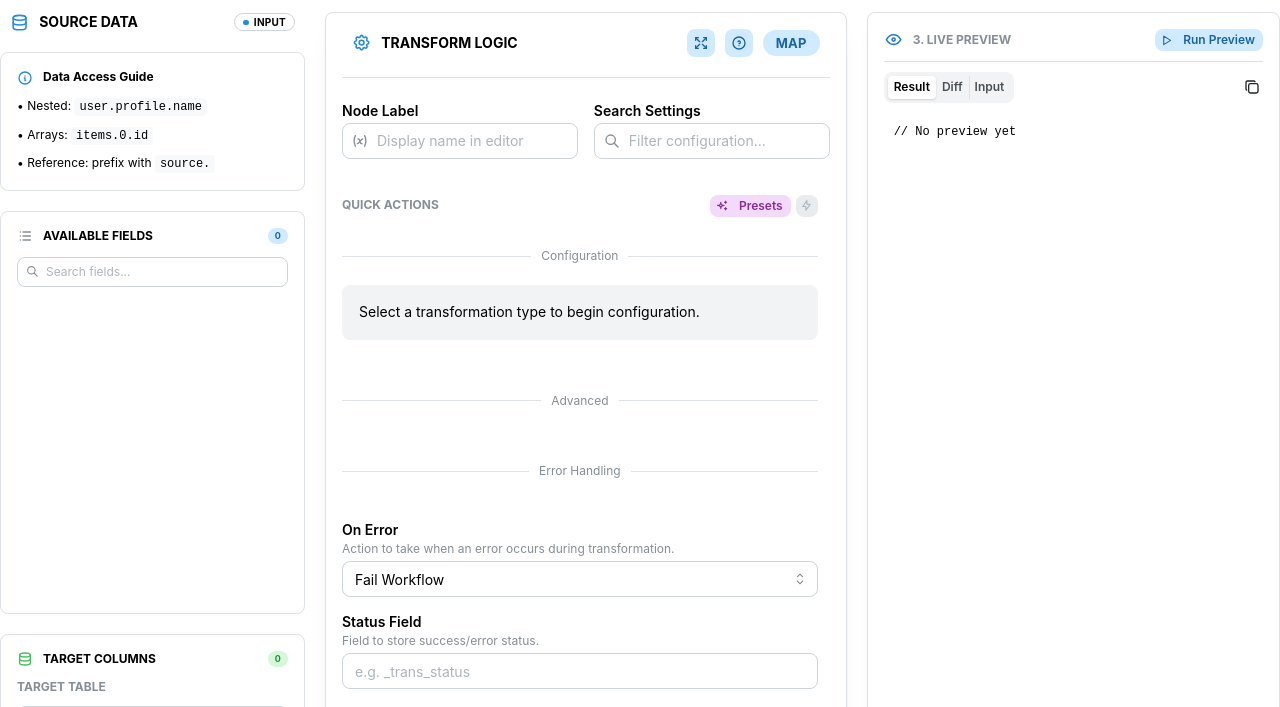
Test: Transformation preview › shows success preview result
The width and height of the screenshot is (1280, 707).
Trigger preview run button
Step 1. Click the button "Run Preview" → (1209, 40), box [1155,29,1263,51]
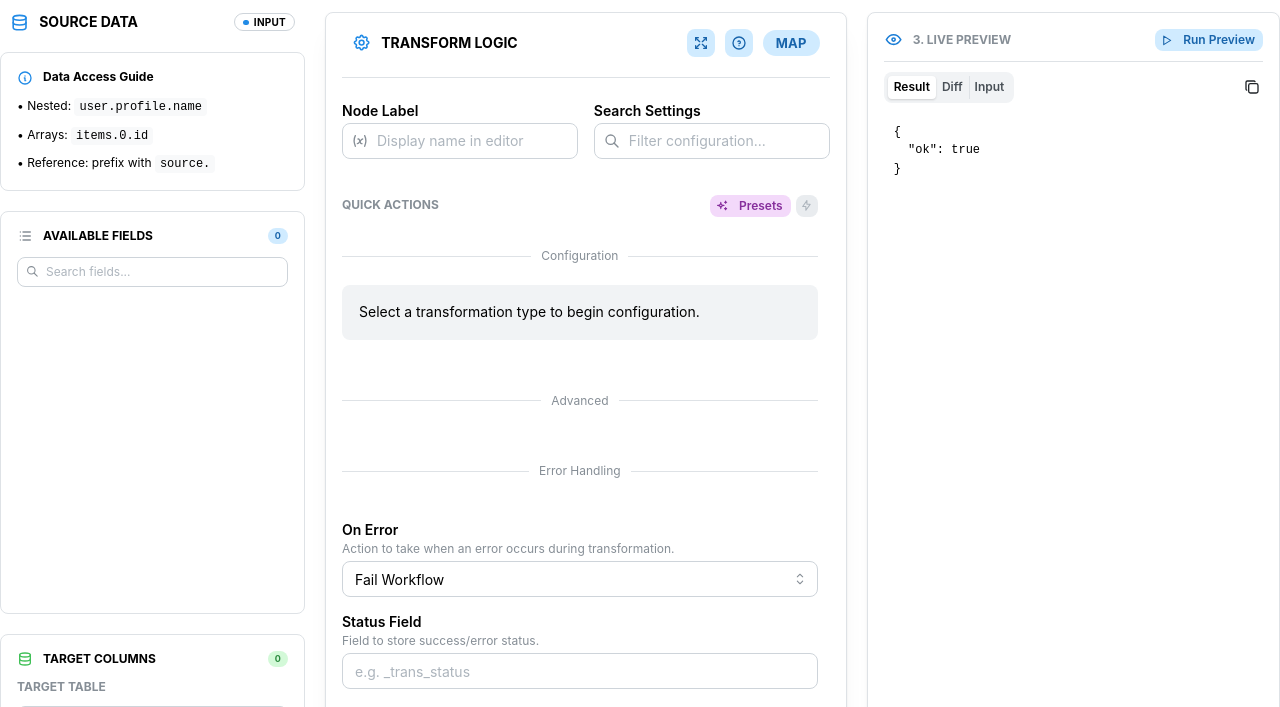
expect the text "{ \"ok\": true }" is shown: met, box [894,125,980,176]
